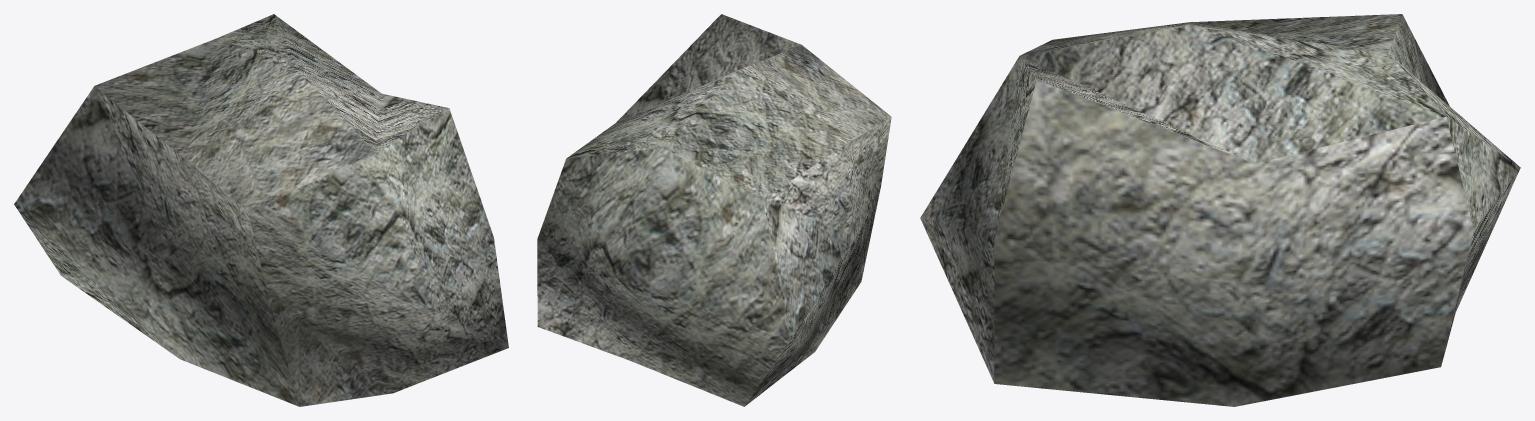
File: rock1.fbx
3 views of the same model, side by side, from view 1: azimuth 30°, elevation 25°; view 2: azimuth 150°, elevation 25°; view 3: azimuth 270°, elevation 25° (orthographic). The views are drawn at different scales.
Parts seen in each view (by area): view 1: Cube; view 2: Cube; view 3: Cube.
Part boxes in pixels (x1,y1,x2,y2): Cube: (14,14,508,406); Cube: (537,14,891,406); Cube: (920,14,1520,406).
Size of the model in its own units: 79.67 by 69.11 by 108.
